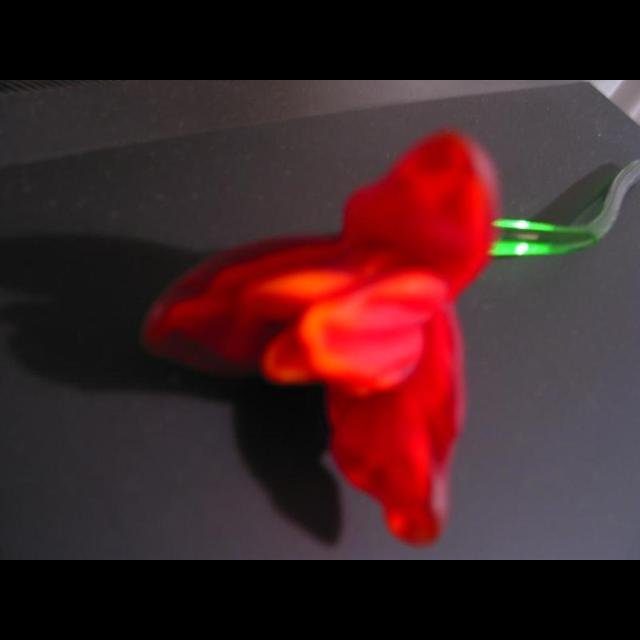Flower: (172, 138, 512, 494)
